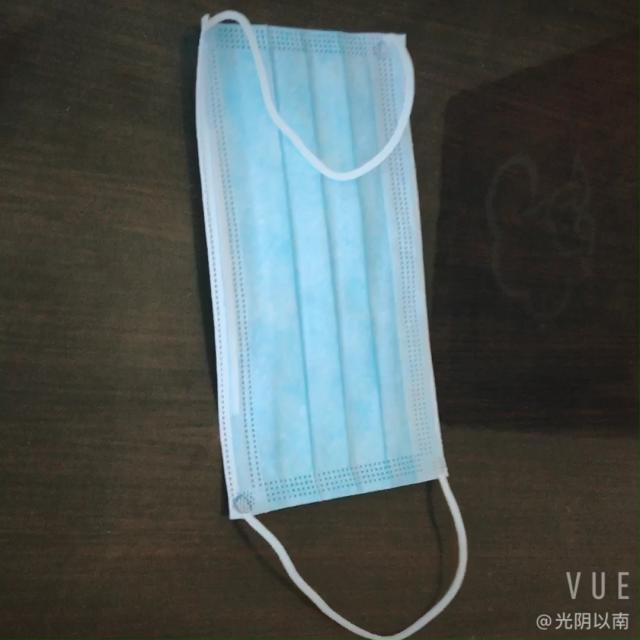face mask: (182, 7, 436, 510)
